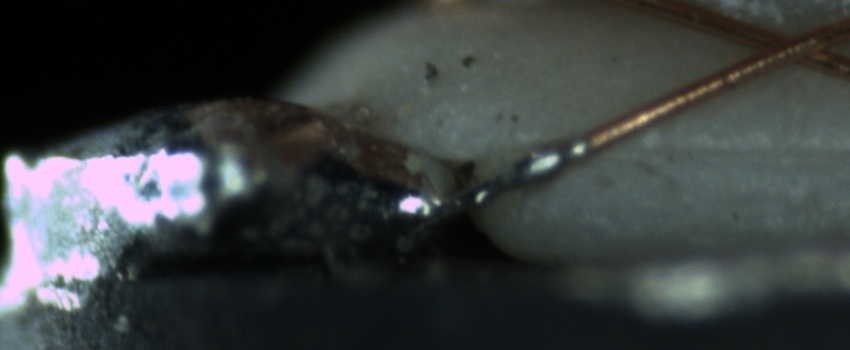CL: (736, 16, 842, 78)
DL: (611, 117, 847, 182)
TB: (506, 140, 573, 193)
TS: (416, 140, 584, 219)
TTCW: (417, 119, 606, 222)
